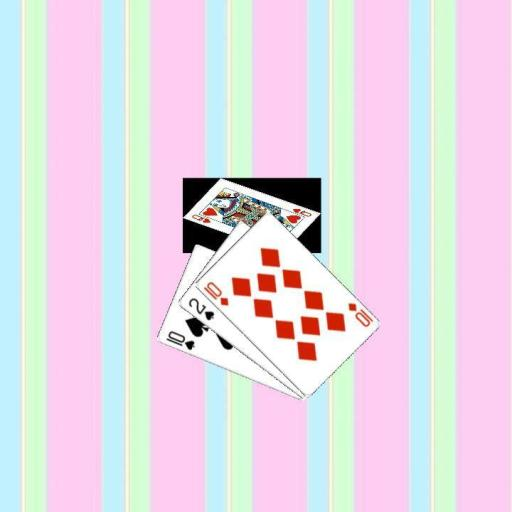card-corner: (344, 300, 375, 328), (200, 279, 230, 307), (185, 295, 215, 322), (163, 328, 196, 352)
